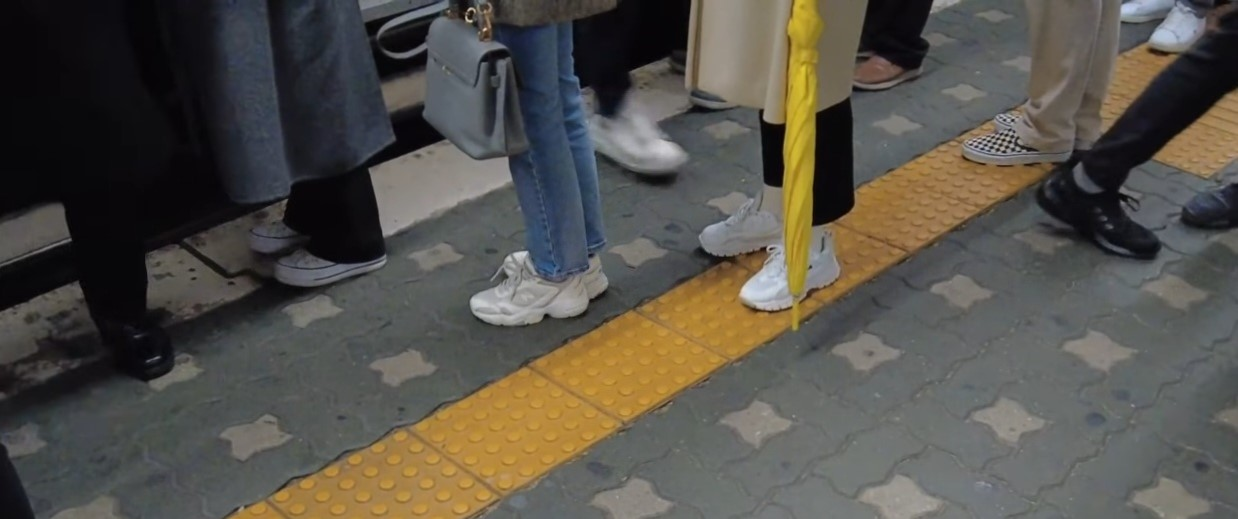warningBlock: (440, 352, 585, 470), (647, 275, 831, 351), (314, 452, 465, 519), (555, 344, 720, 394), (922, 146, 1017, 206), (856, 187, 957, 243), (757, 233, 879, 277)
